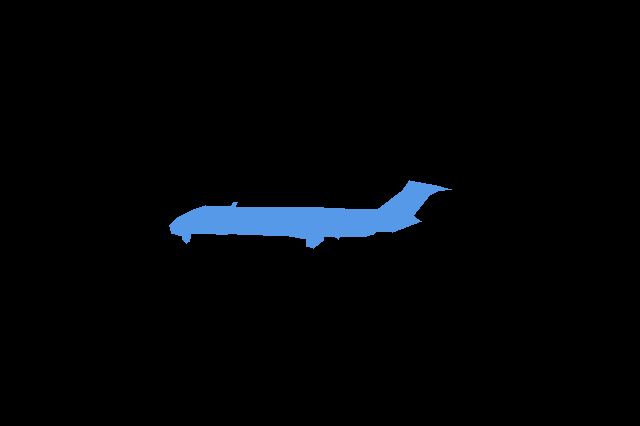Airplane: (169, 180, 451, 248)
